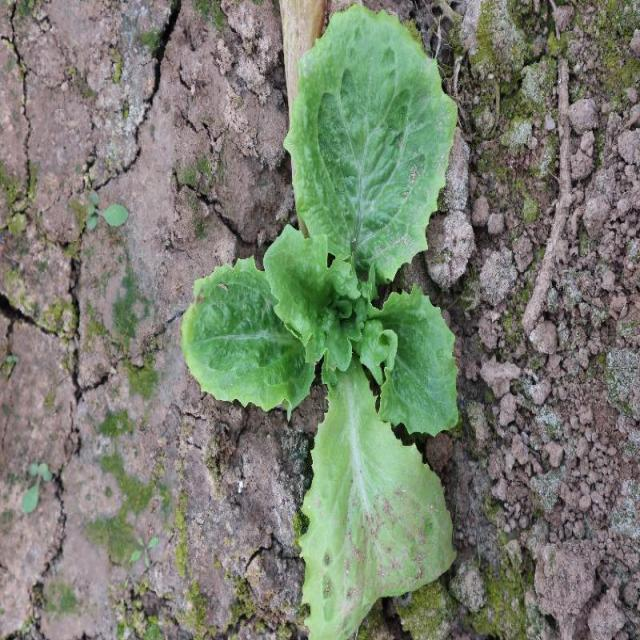crop: (181, 0, 463, 432)
